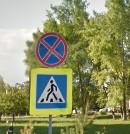No Parking: (36, 33, 69, 68)
